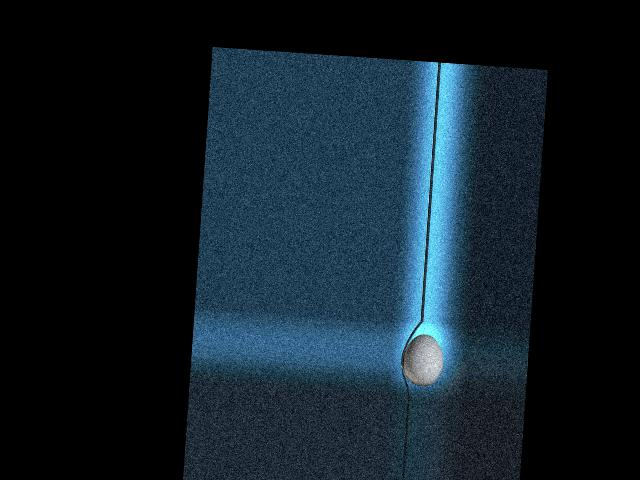egg: (401, 333, 444, 387)
